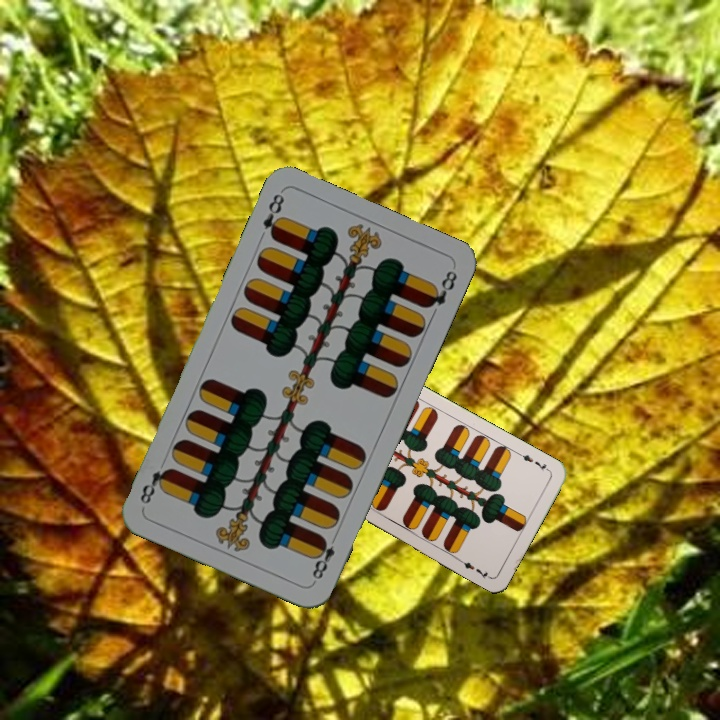E7: (515, 449, 553, 474)
E8: (308, 530, 341, 585), (258, 189, 287, 243)
